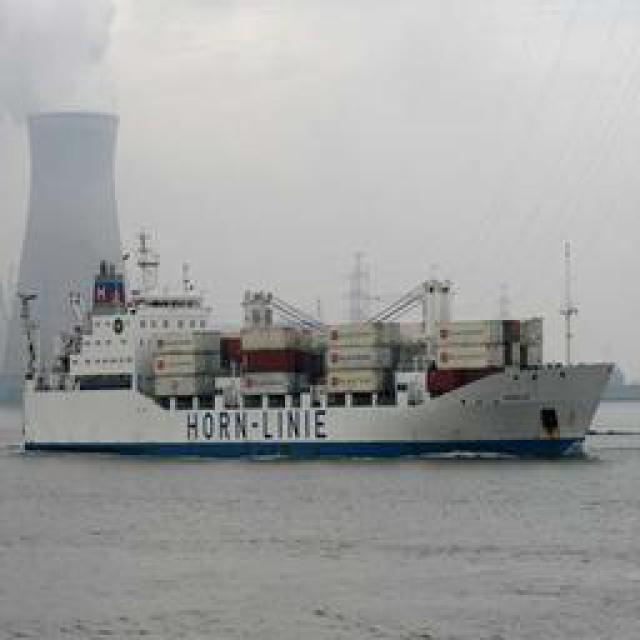Ship: (14, 265, 614, 465)
